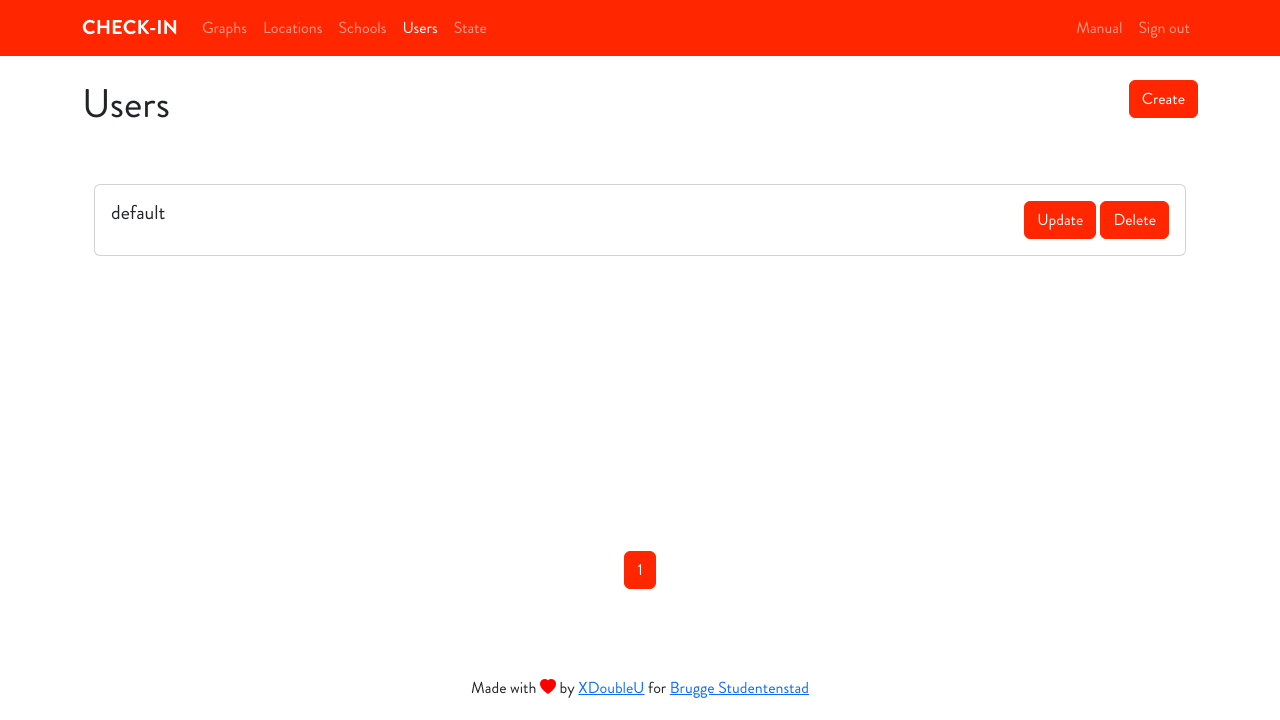
Test: UserListView (page) › Creates a user, passwords don't match
Click the button "Create": (1163, 99) [1129, 80, 1198, 118]
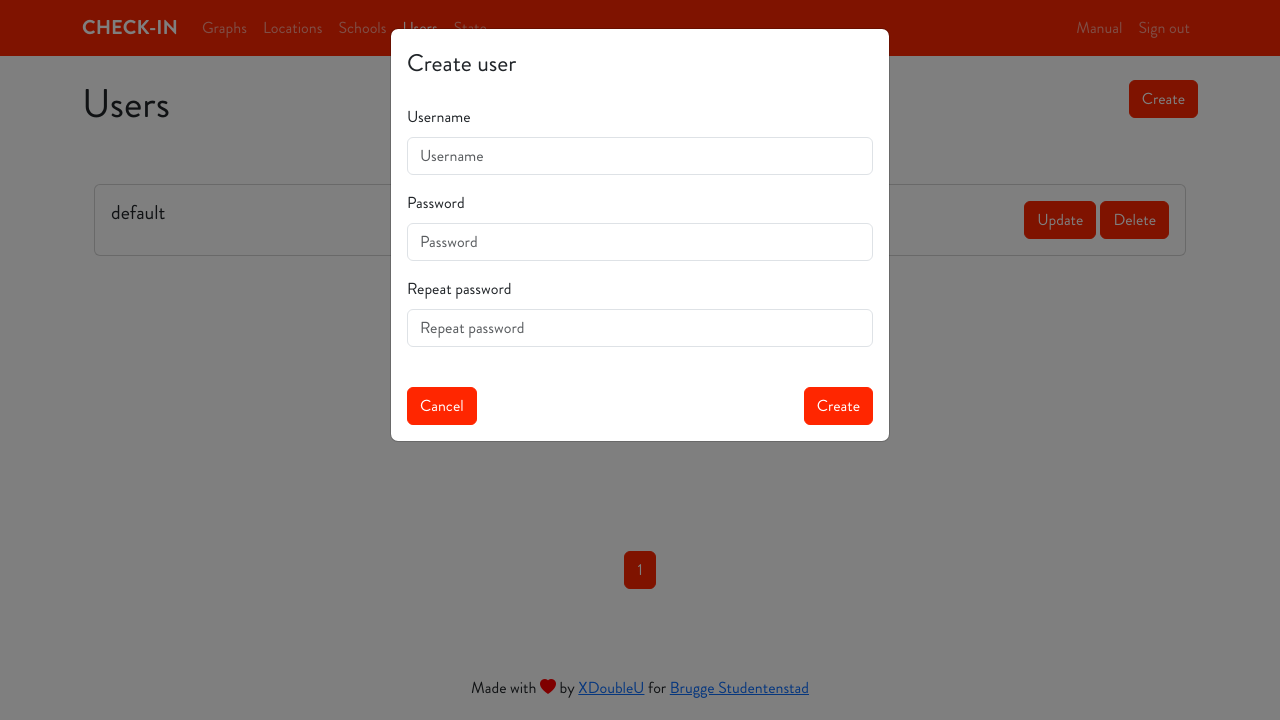
In the field labelled "Username": (640, 156) [407, 137, 873, 175], type "newUserName"
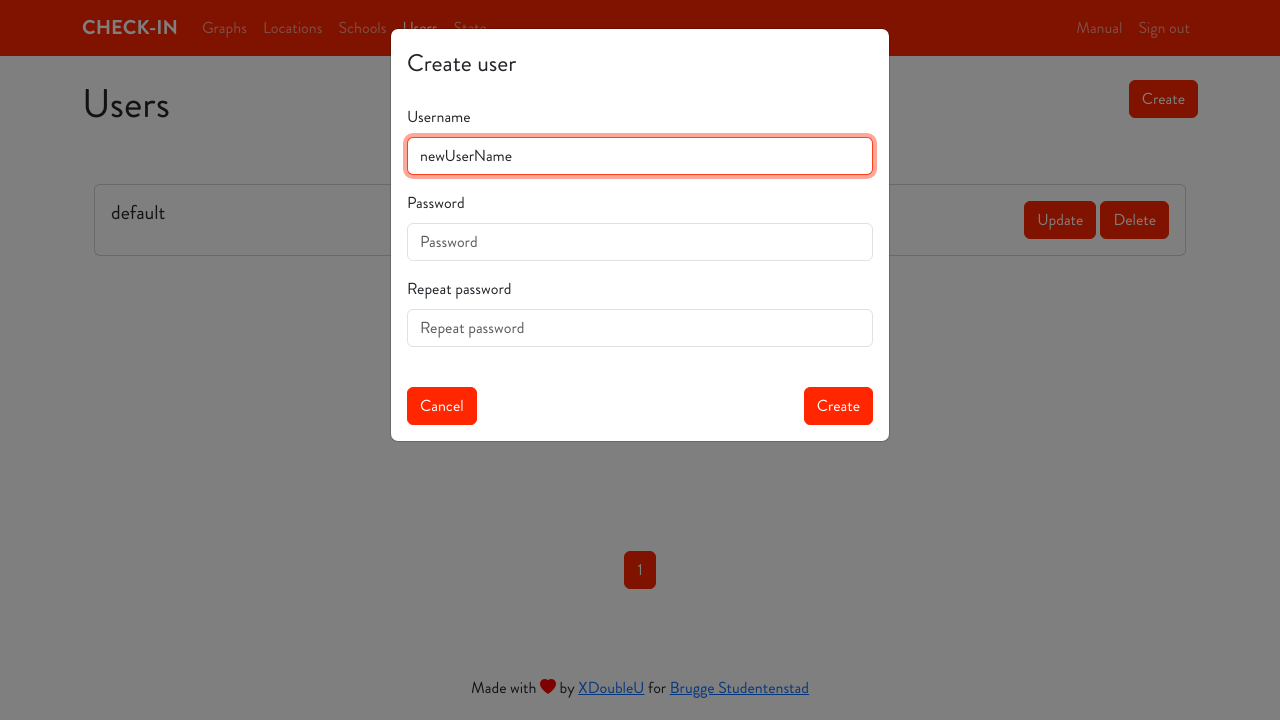
In the password field labelled "Password": (640, 242) [407, 223, 873, 261], type "newPassword"
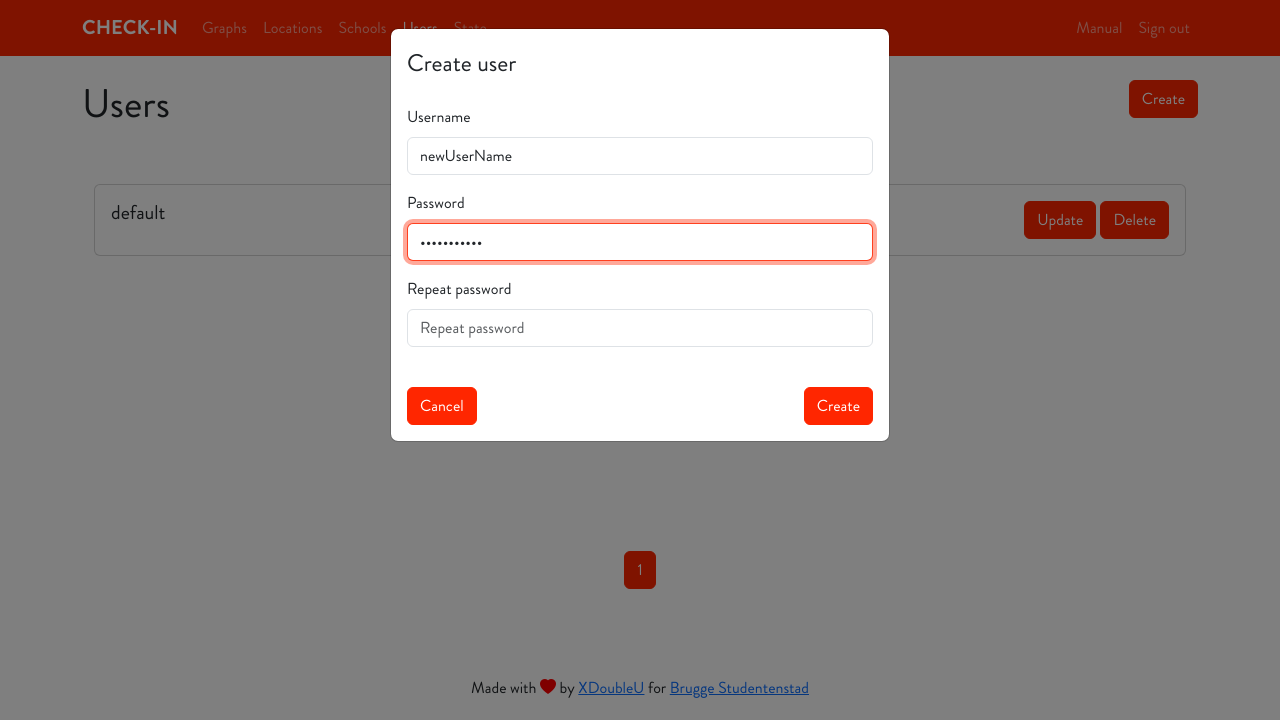
In the password field labelled "Repeat password": (640, 328) [407, 309, 873, 347], type "newPasswordWrong"
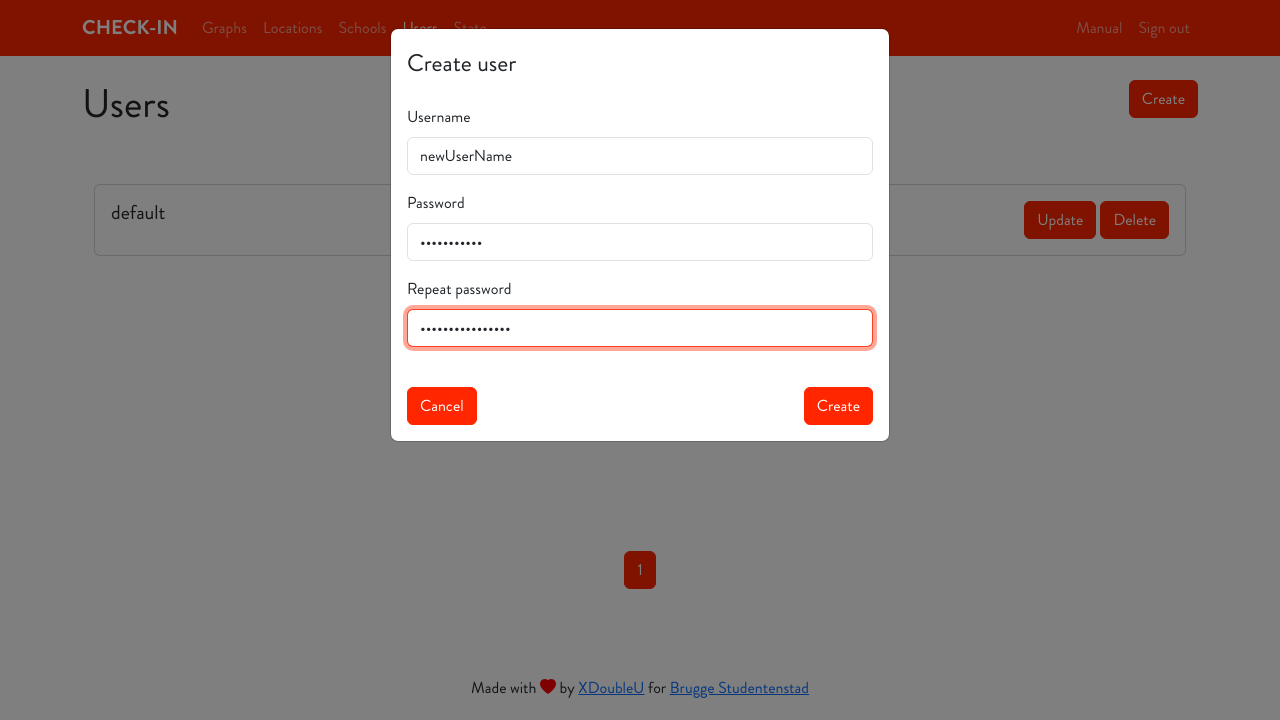
Click the button "Create": (838, 406) [804, 387, 873, 425]
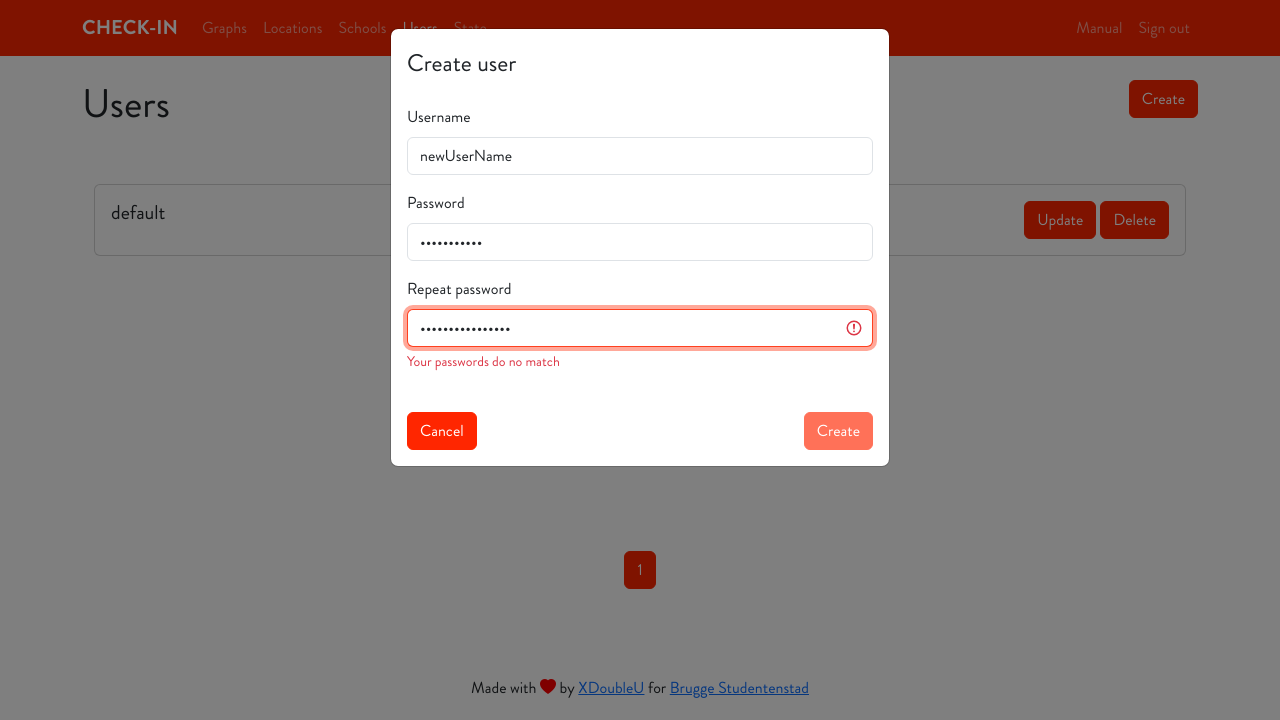
Check: the text "Your passwords do no match" is shown, box [407, 351, 560, 371]
